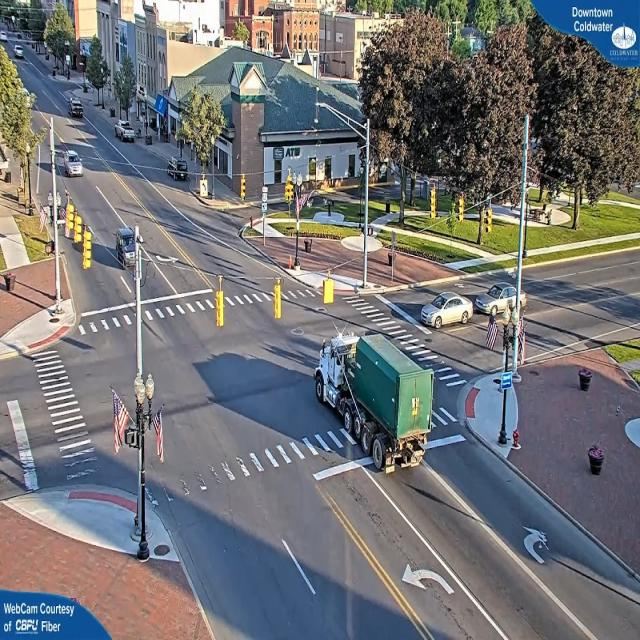car: (418, 285, 473, 332), (111, 222, 140, 271), (62, 150, 83, 178), (164, 159, 189, 180), (68, 96, 84, 120), (116, 123, 135, 143), (473, 298, 494, 316)
truck: (313, 339, 355, 441)
